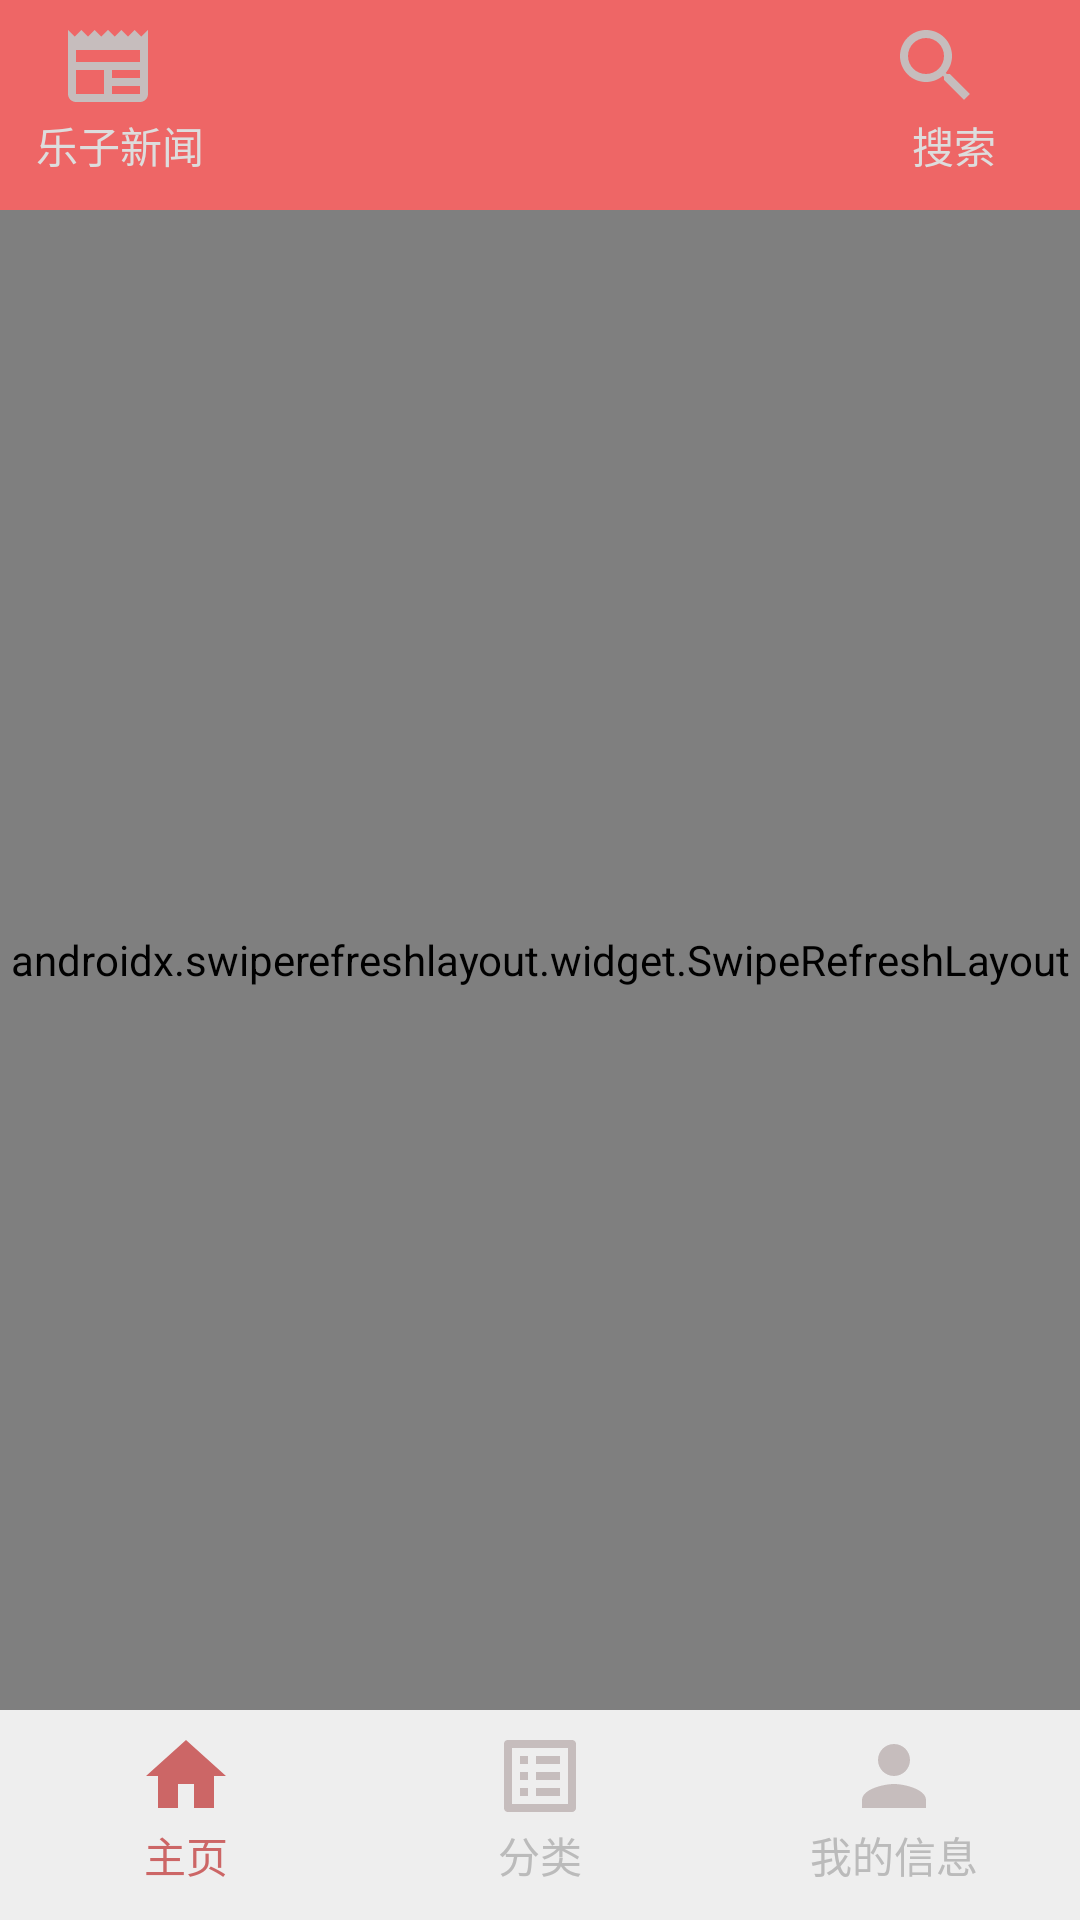

Named icons in this screenshot (1080×1920) and their centers, [x,y]:
list: [540,1776]
newspaper: [108,66]
person: [894,1776]
